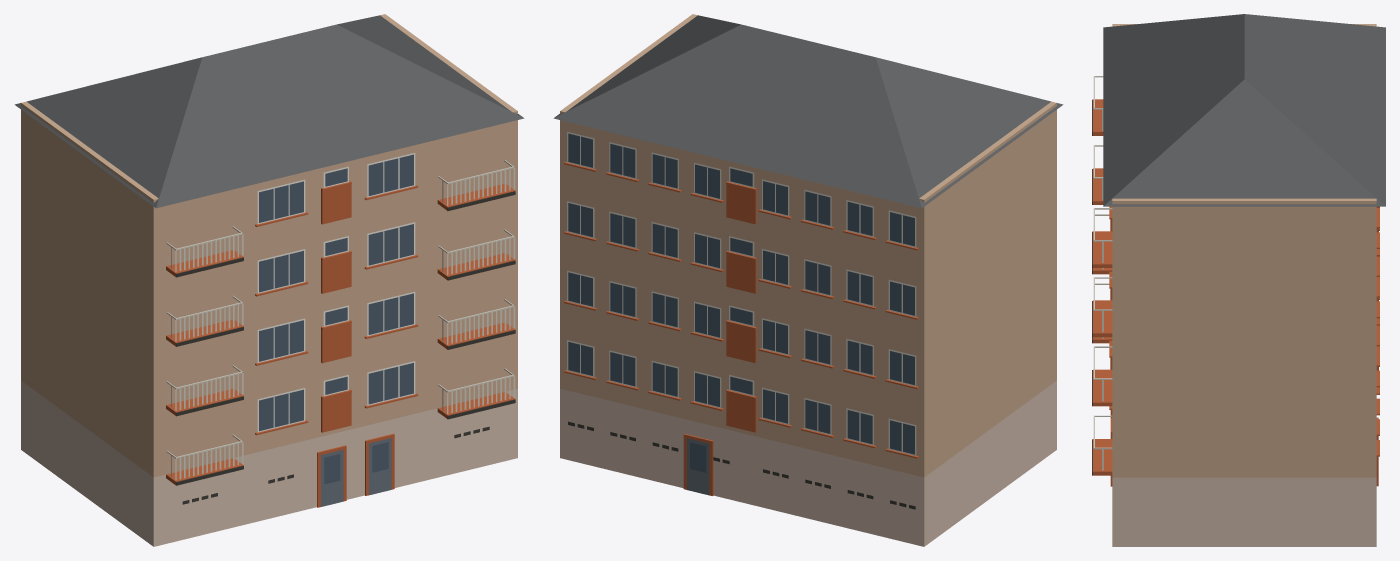
File: nw-peach-render-balcony-front__peach-orange__5__hip__long__solid.glb
The picture shows the model from 3 angles, left to right: view 1: azimuth 30°, elevation 25°; view 2: azimuth 150°, elevation 25°; view 3: azimuth 270°, elevation 25°; orthographic projection.
Visible parts, largest first — view 1: nw-peach-render-balcony-front__peach-orange__5__hip__long__s; view 2: nw-peach-render-balcony-front__peach-orange__5__hip__long__s; view 3: nw-peach-render-balcony-front__peach-orange__5__hip__long__s.
Part boxes in pixels (bbox=[...]): nw-peach-render-balcony-front__peach-orange__5__hip__long__s: bbox=[14, 14, 524, 546]; nw-peach-render-balcony-front__peach-orange__5__hip__long__s: bbox=[553, 14, 1063, 546]; nw-peach-render-balcony-front__peach-orange__5__hip__long__s: bbox=[1092, 14, 1385, 546].
Size of the model in its own units: 16.33 by 17.49 by 11.31.
